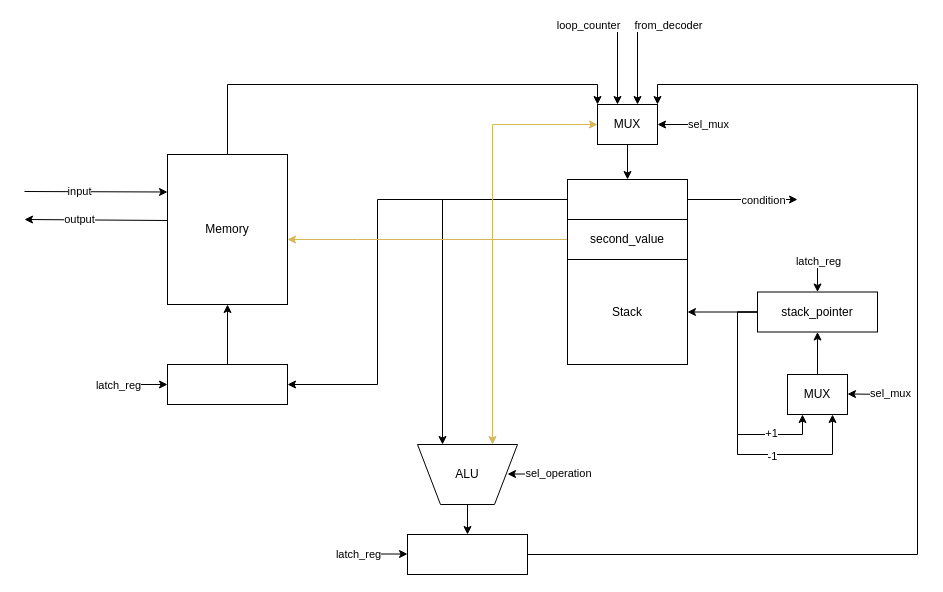
Some shapes in this 943 by 592 pixel diagram are drawn without their labels. The shapes that lost their labels are listed below. From the top down, each one's centre as x and y in pixels, then its label:
point 627,199: top_value
point 227,384: addr
point 467,554: alu_latch
